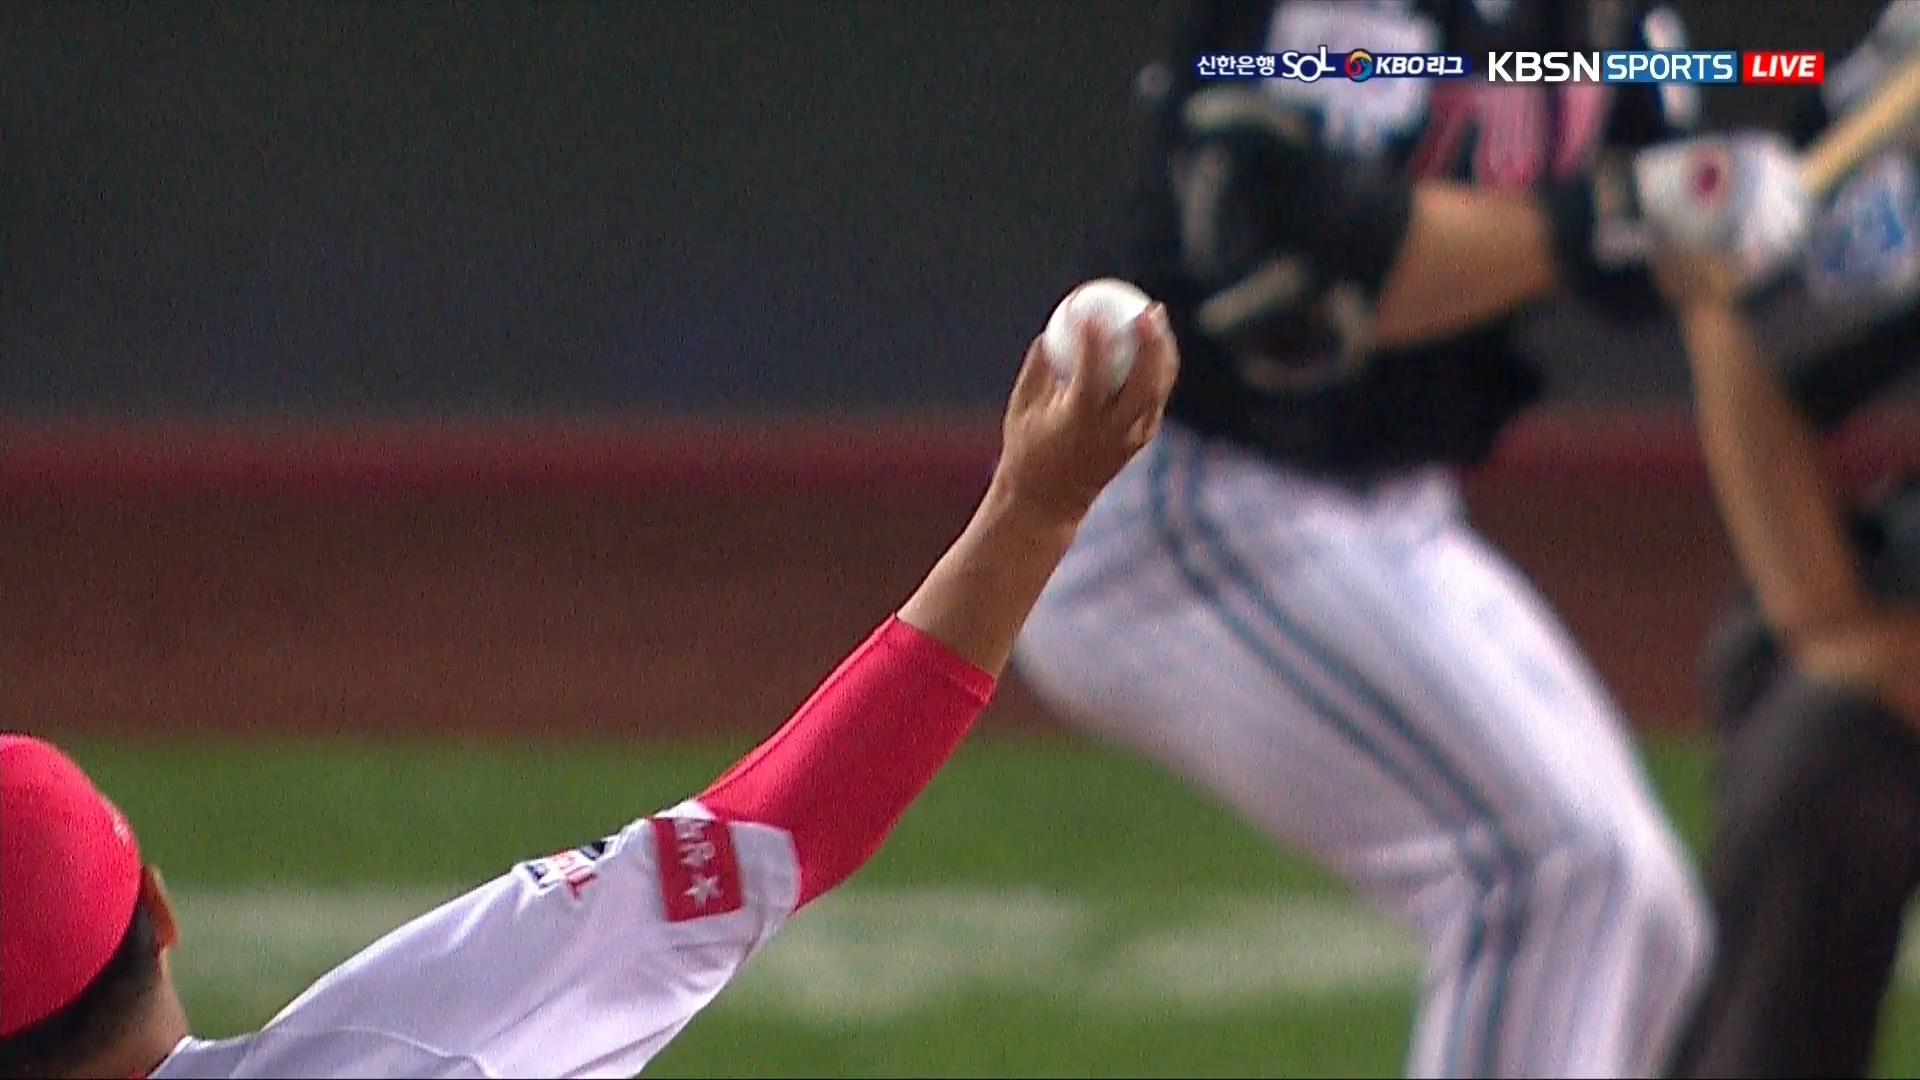zoomin_hand: (721, 258, 1187, 939)
